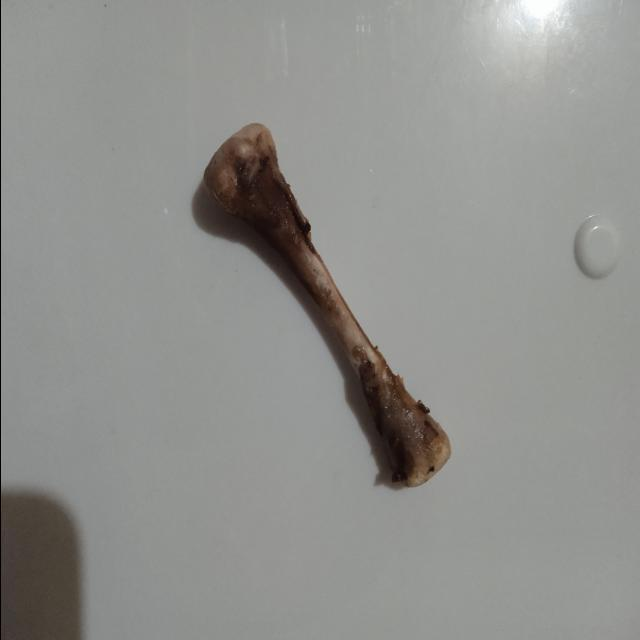bone: (196, 114, 456, 500)
